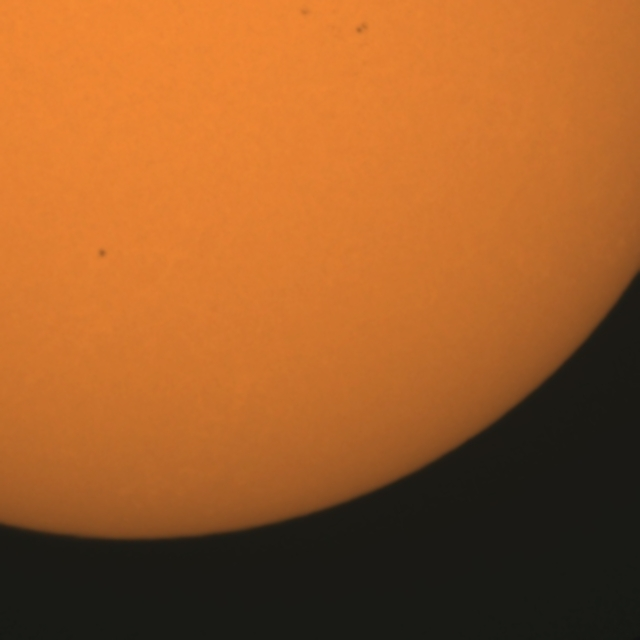sunspot: (353, 20, 370, 37), (297, 4, 313, 20), (96, 246, 109, 262)
